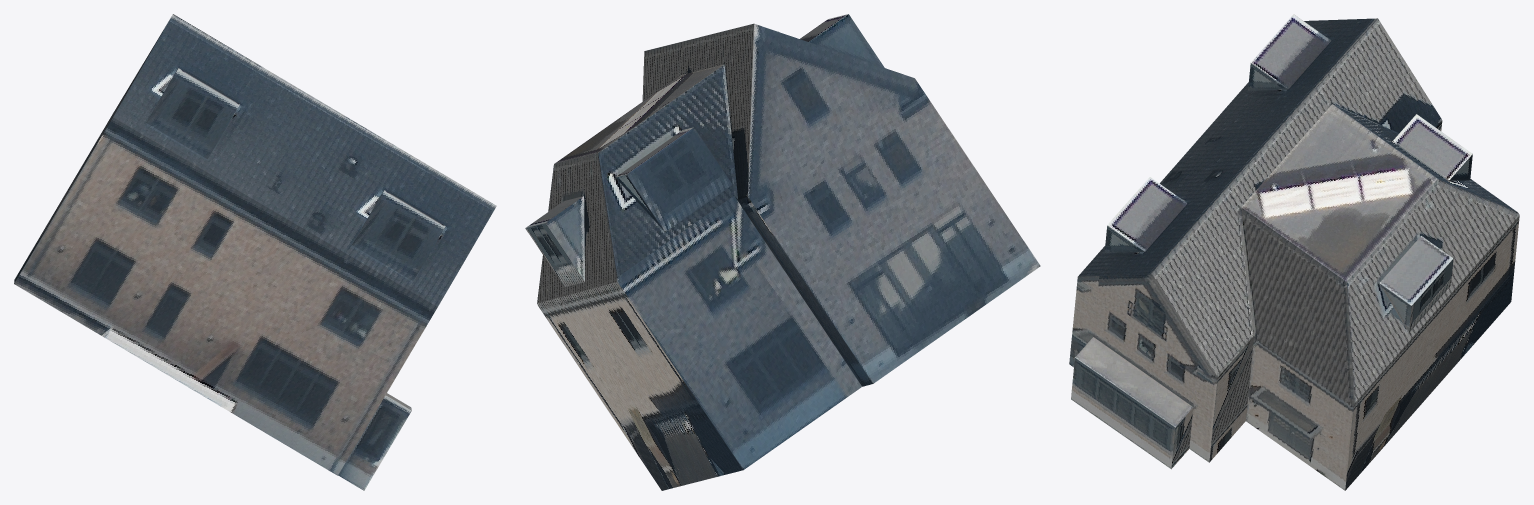
The picture shows the model from 3 angles, left to right: view 1: azimuth 30°, elevation 25°; view 2: azimuth 150°, elevation 25°; view 3: azimuth 270°, elevation 25°; orthographic projection. The views are drawn at different scales.
Visible parts, largest first — view 1: BAG_0599100110017015 (×2); view 2: BAG_0599100110017015 (×2); view 3: BAG_0599100110017015 (×2).
Boxes of the visible parts, left/top/right/bottom form: BAG_0599100110017015 (×2): left=14, top=14, right=496, bottom=490; BAG_0599100110017015 (×2): left=525, top=14, right=1040, bottom=490; BAG_0599100110017015 (×2): left=1069, top=14, right=1519, bottom=490.
Size of the model in its own units: 15.42 by 15.59 by 14.92.
2 materials, 2 textured.
